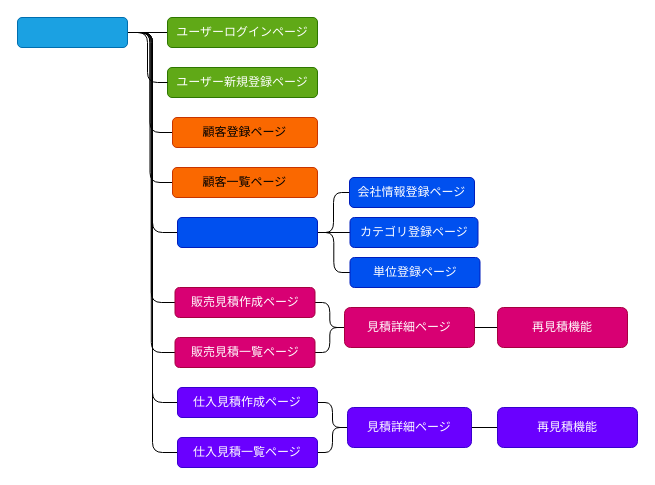
The diagram is 655 pixels wide and 485 high, and some of its shapes have lost their labels. Here are the shapes that lost their labels. From the top down, the box of each, then its label:
(16, 16, 128, 48): トップページ
(176, 216, 318, 248): データ登録ページ
